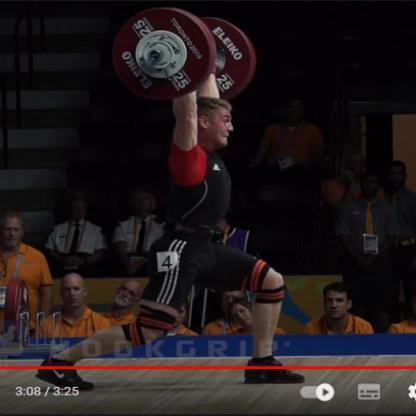barbell: (110, 6, 258, 98)
